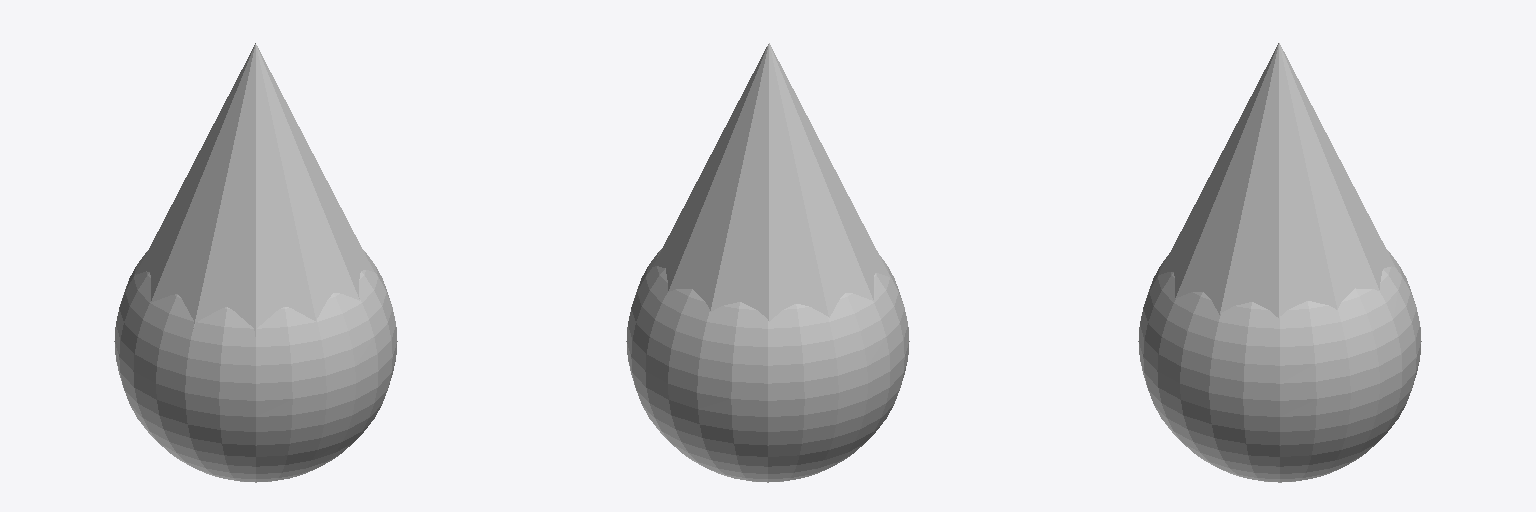
The model's file is drop.obj.
The picture shows the model from 3 angles: view 1: azimuth 30°, elevation 25°; view 2: azimuth 150°, elevation 25°; view 3: azimuth 270°, elevation 25°; orthographic projection.
Parts seen in each view (by area): view 1: Sphere, Cone; view 2: Sphere, Cone; view 3: Sphere, Cone.
Part boxes in pixels (left/top/right/bottom): Sphere: left=114, top=250, right=397, bottom=482; Cone: left=136, top=43, right=373, bottom=349; Sphere: left=626, top=249, right=909, bottom=482; Cone: left=653, top=43, right=892, bottom=321; Sphere: left=1138, top=250, right=1421, bottom=482; Cone: left=1158, top=43, right=1396, bottom=317.
Size of the model in its own units: 1.02 by 1.7 by 1.02.